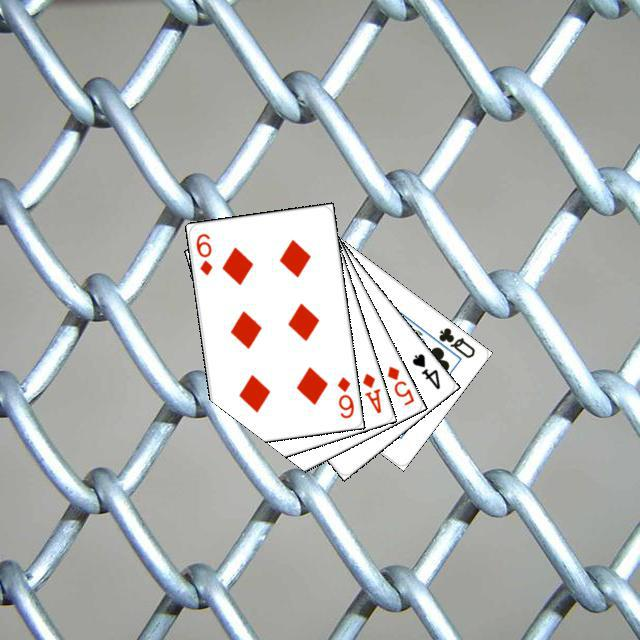4s: (407, 348, 442, 391)
5d: (382, 361, 416, 407)
6d: (332, 372, 356, 420), (191, 228, 214, 277)
Ad: (357, 368, 383, 415)
Qc: (425, 322, 477, 363)
